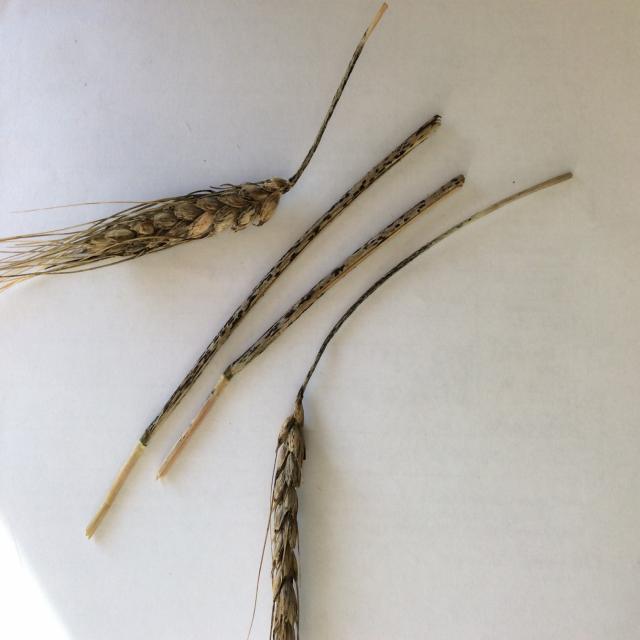wheat-stemrust: (139, 116, 442, 452), (0, 65, 356, 294), (223, 175, 465, 381), (287, 201, 501, 420), (248, 401, 306, 640)
